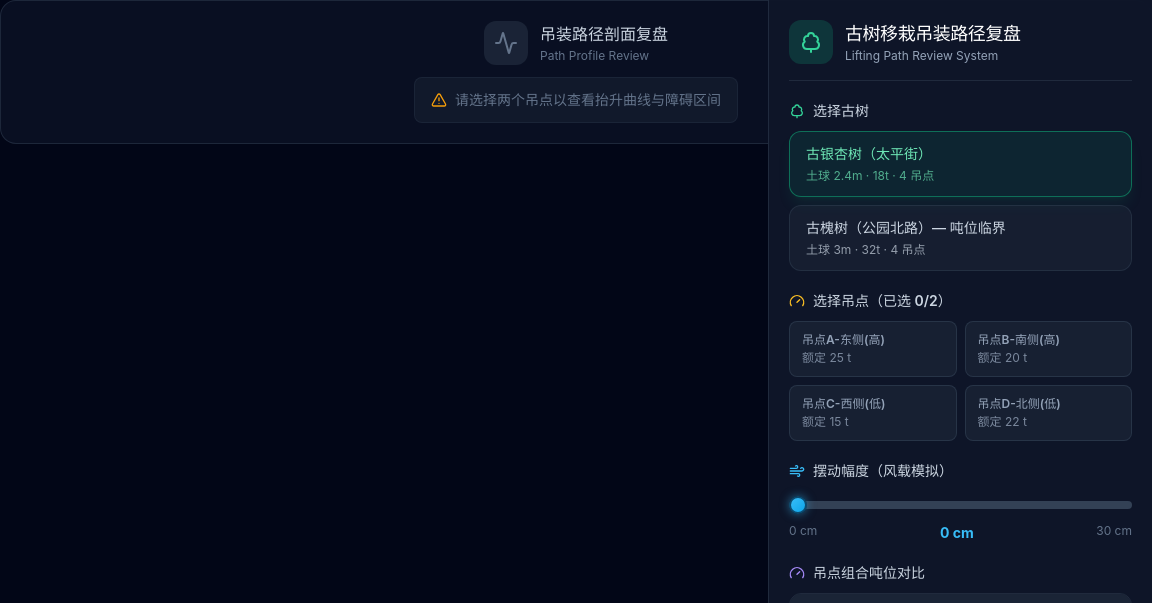
Test: 集成：场景1 - 古银杏树（太平街）吊点B + 吊点D → 碰撞风险 › 评估卡片峰值吨位与组合表 B+D 行一致
What coordinates should you click on to do the following:
click the button "吊点B-南侧(高) 额定 20 t"
I would click on:
 (1048, 349)
Its box is [964, 321, 1132, 377].
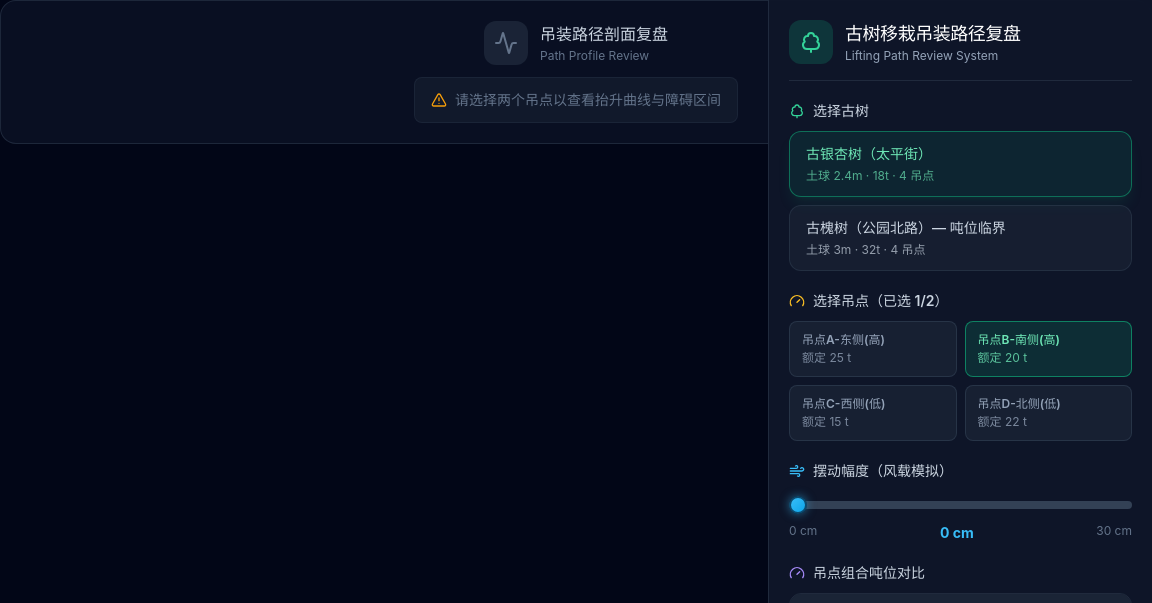
What coordinates should you click on to do the following:
click the button "吊点D-北侧(低) 额定 22 t"
I would click on:
 (1048, 413)
Its box is [964, 385, 1132, 441].
(page scrolled)
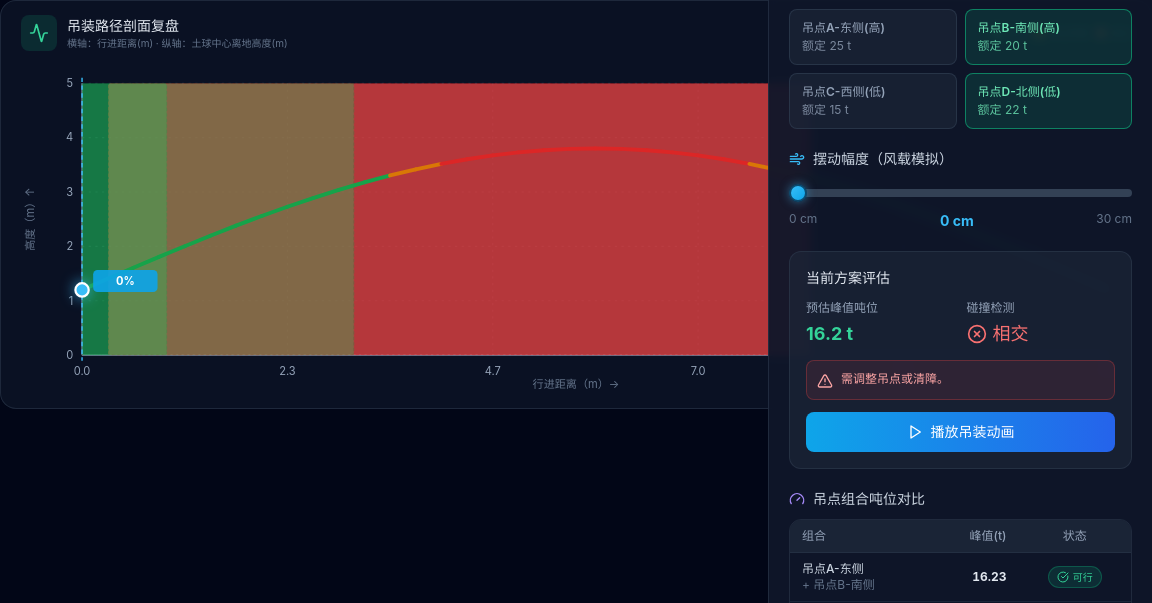
Expected: the element showing "当前方案评估 预估峰值吨位 16.2 t 碰撞检测 相交 需调整吊点或清障。 播放吊装动画" is shown, [789, 251, 1132, 469]
